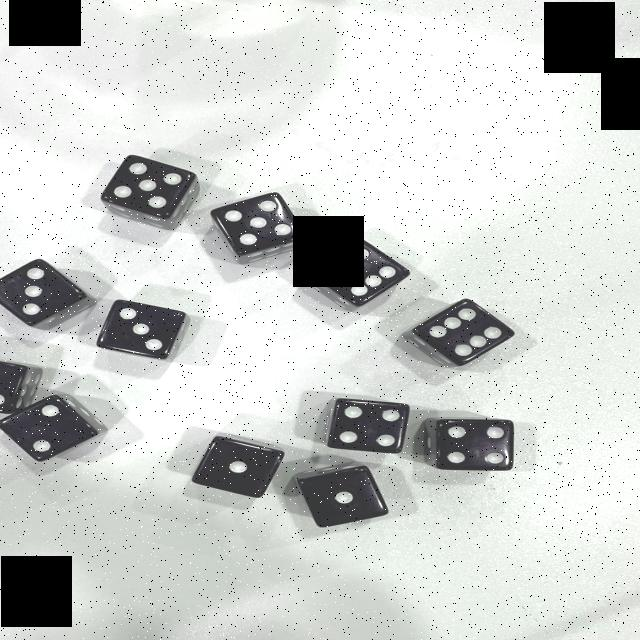DICE1: (314, 476, 379, 544), (198, 444, 266, 492)
DICE2: (24, 384, 100, 466), (0, 356, 16, 416)
DICE3: (104, 284, 178, 364), (0, 250, 70, 322)
DICE4: (312, 393, 422, 458), (428, 413, 542, 471)
DICE5: (208, 171, 328, 254), (84, 164, 210, 214)
DICE6: (312, 228, 422, 316), (422, 287, 526, 373)
